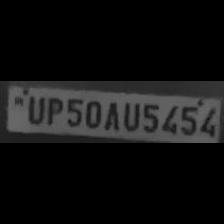0: (82, 97, 102, 128)
4: (198, 102, 218, 138), (160, 102, 178, 134)
5: (176, 102, 198, 136), (62, 95, 82, 127), (139, 101, 159, 133)
A: (102, 98, 120, 130)
P: (43, 94, 63, 126)
U: (22, 93, 44, 125), (120, 98, 140, 132)
